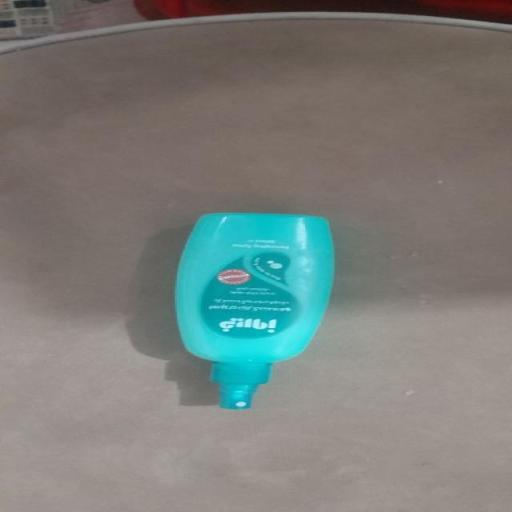plastic: (166, 212, 340, 412)
